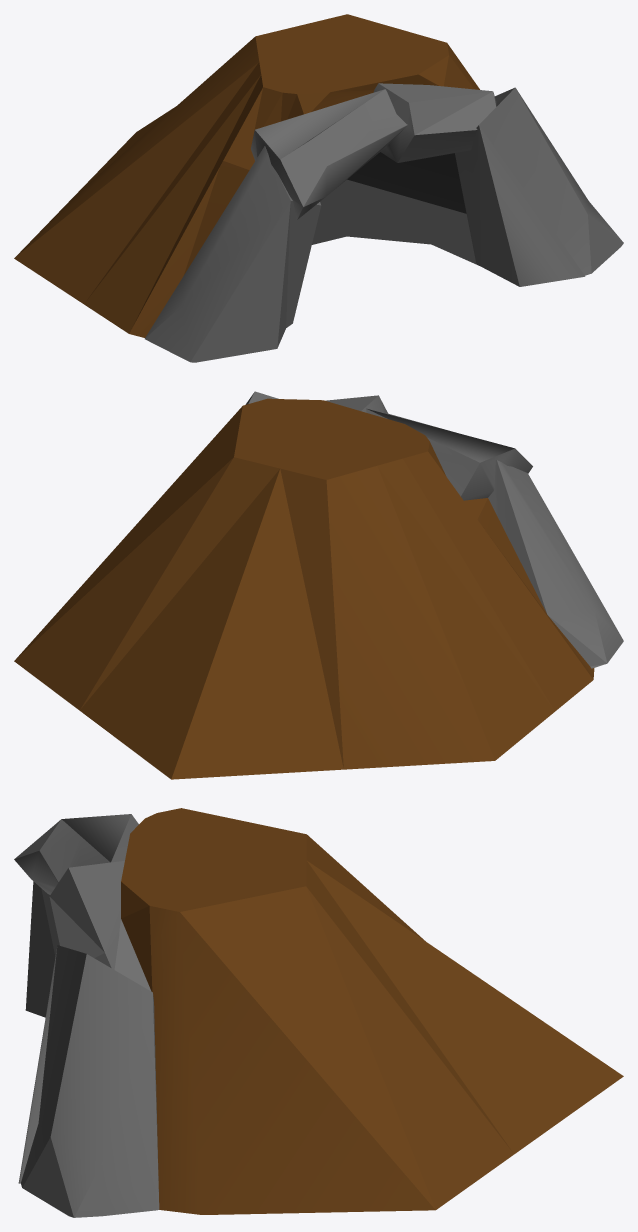
Rendered from Cave_Dirt_01.fbx.
3 views of the same model, one above another, from view 1: azimuth 30°, elevation 25°; view 2: azimuth 150°, elevation 25°; view 3: azimuth 270°, elevation 25° (orthographic). The views are drawn at different scales.
Visible parts, largest first — view 1: Cave_Dirt_01; view 2: Cave_Dirt_01; view 3: Cave_Dirt_01.
Part boxes in pixels (bbox=[...]): Cave_Dirt_01: bbox=[14, 14, 623, 362]; Cave_Dirt_01: bbox=[14, 391, 623, 779]; Cave_Dirt_01: bbox=[14, 808, 623, 1217].
Bounding box in the file's own units: 496 × 200 × 477.
